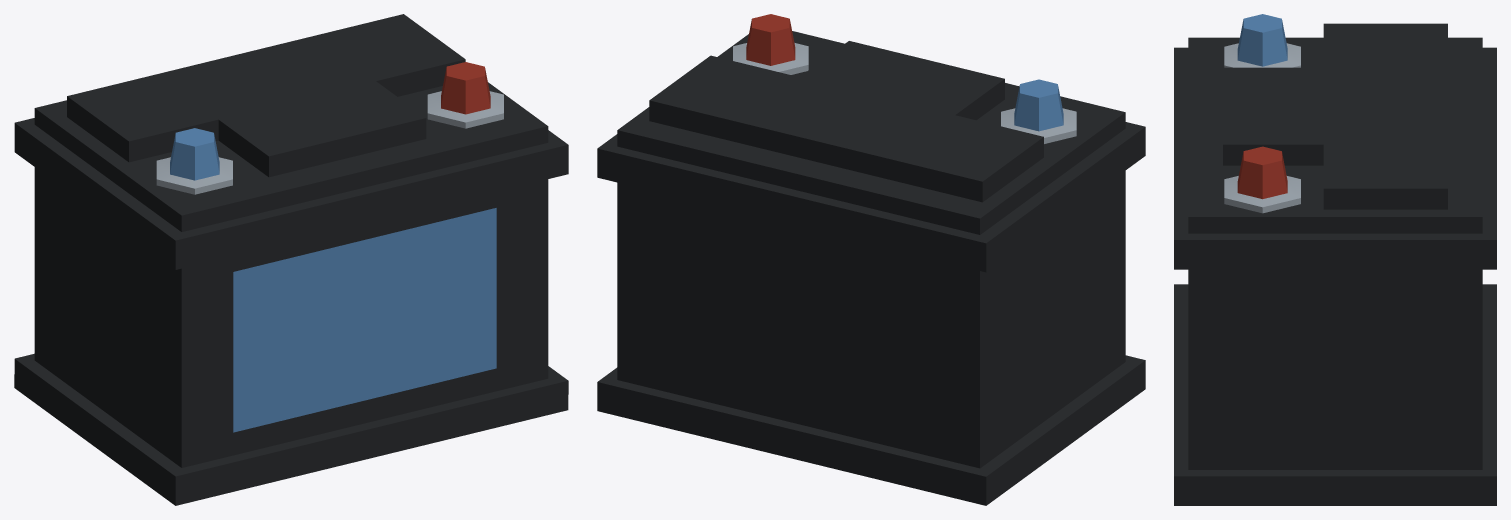
The model's file is SM_Prop_CarBattery_01.fbx.
3 renders of one model, left to right at view 1: azimuth 30°, elevation 25°; view 2: azimuth 150°, elevation 25°; view 3: azimuth 270°, elevation 25°, orthographic.
Visible parts, largest first — view 1: SM_Prop_CarBattery_01; view 2: SM_Prop_CarBattery_01; view 3: SM_Prop_CarBattery_01.
Boxes of the visible parts, bbox=[...] form: SM_Prop_CarBattery_01: bbox=[14, 14, 568, 505]; SM_Prop_CarBattery_01: bbox=[597, 14, 1145, 505]; SM_Prop_CarBattery_01: bbox=[1174, 14, 1496, 505].
Bounding box in the file's own units: 36.04 × 28.11 × 25.59.
